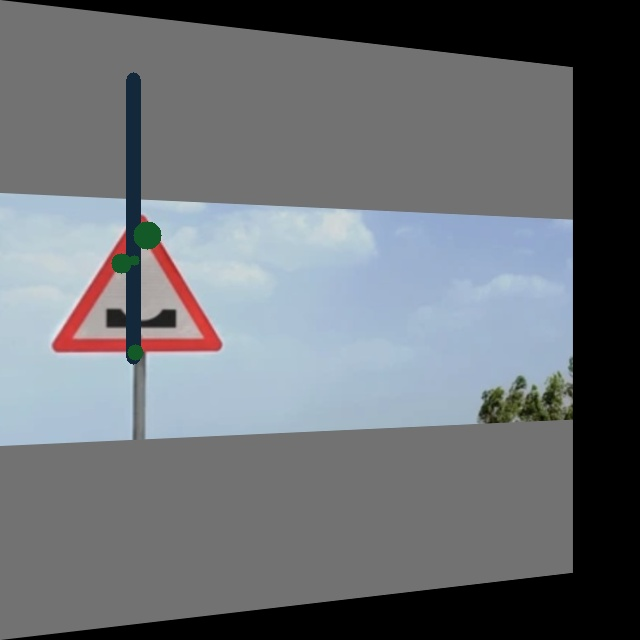Dangerous_Dip: (57, 212, 223, 354)
